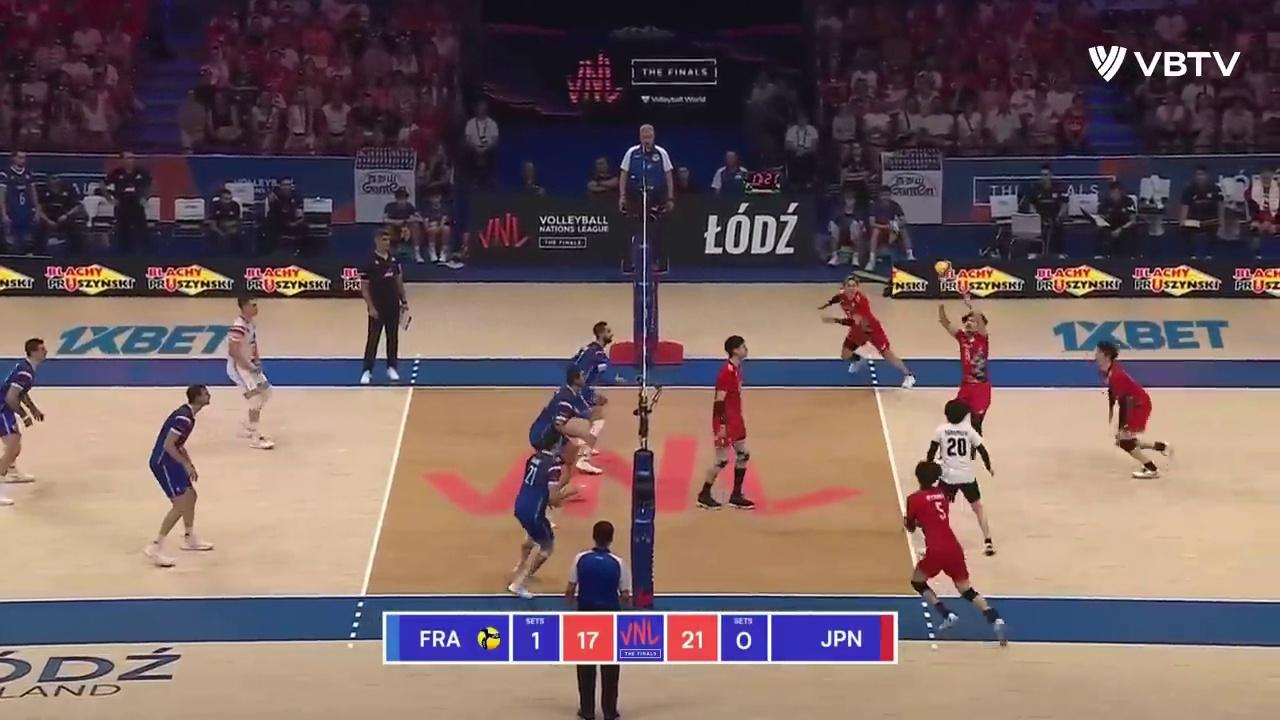ball: (935, 261, 952, 278)
